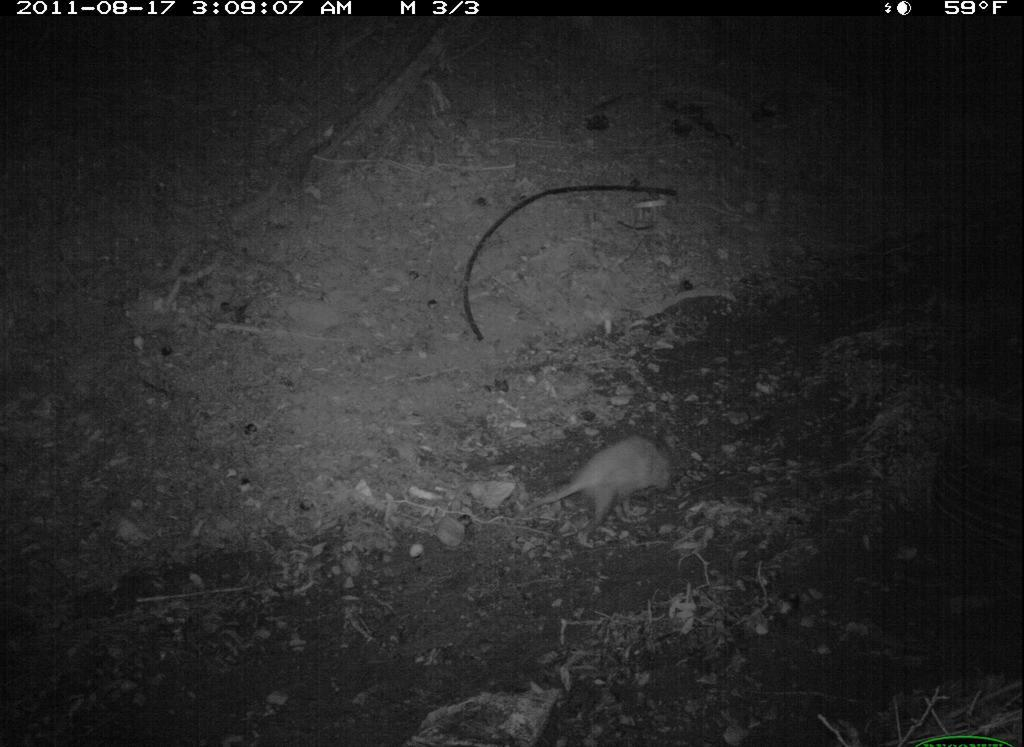opossum: (497, 415, 703, 548)
